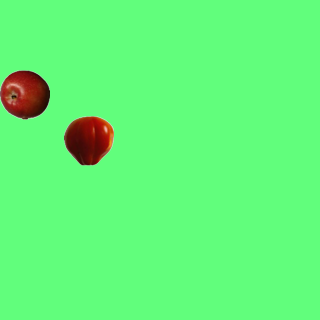Apple Braeburn: (0, 69, 49, 119)
Tomato 1: (63, 115, 113, 165)
